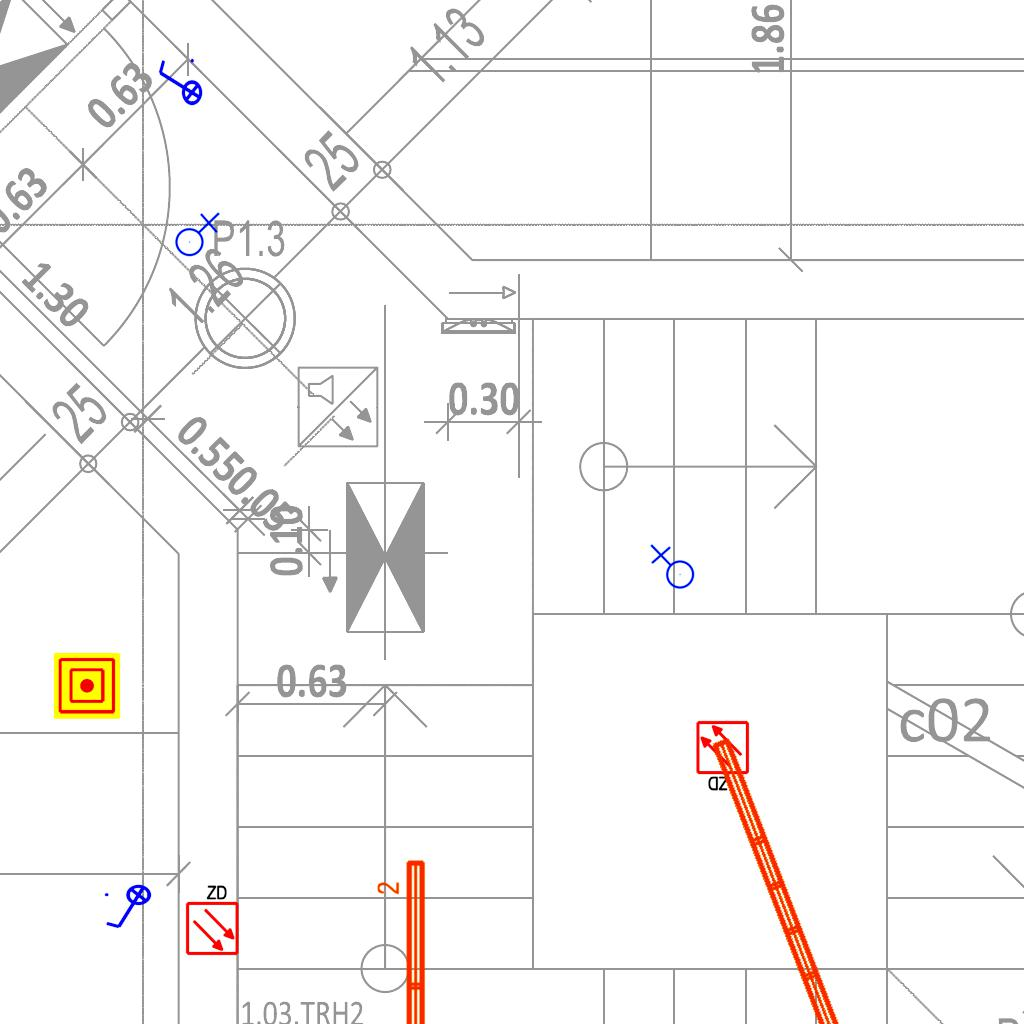Ambulanz_Pendelleuchte_LED: (704, 721, 895, 1024), (375, 856, 431, 1024)
Ausschalter_beleuchtet: (155, 56, 203, 112), (102, 884, 158, 932)
Elektroanschluss_allgemein_230V_Geraeteanschlussdose_230V: (648, 544, 695, 593), (171, 210, 220, 257)
NAM-Nichtautomatischer_Melder: (54, 653, 120, 719)
ZD_Melder_in_Zwischendecke_mit_Revisionsoeffnung_mind_40_x_40_cm: (183, 882, 240, 956), (695, 720, 752, 794)
